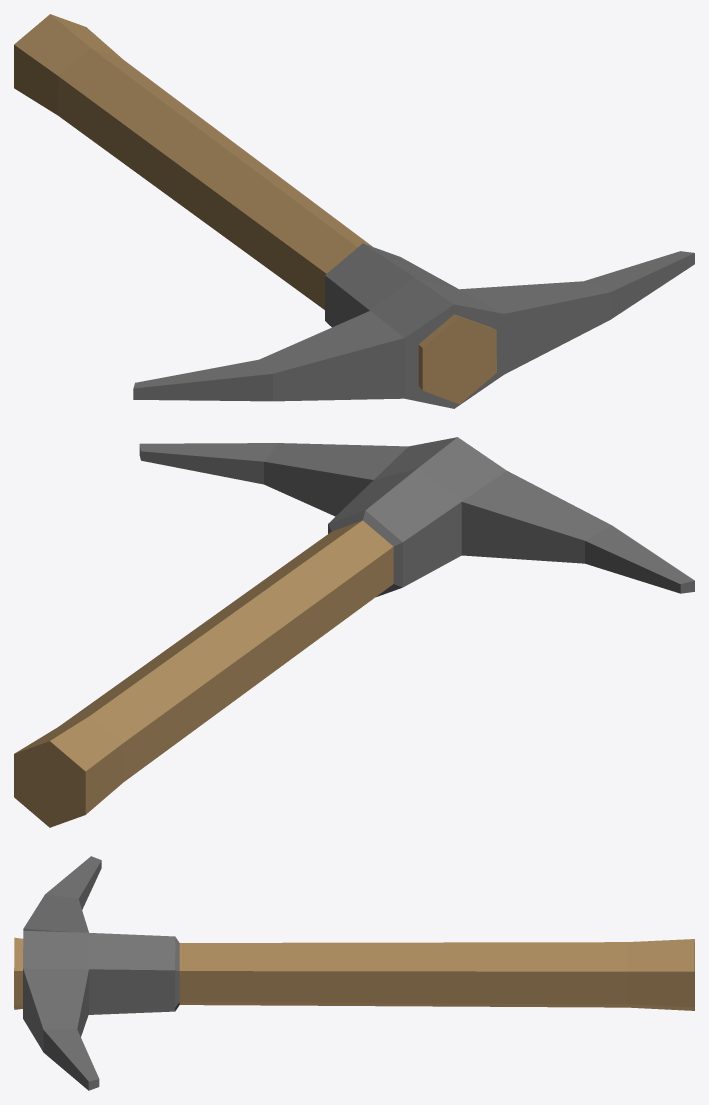
Rendered from pick.fbx.
3 renders of one model, top to bottom at view 1: azimuth 30°, elevation 25°; view 2: azimuth 150°, elevation 25°; view 3: azimuth 270°, elevation 25°, orthographic. The views are drawn at different scales.
Parts seen in each view (by area): view 1: PickAxe; view 2: PickAxe; view 3: PickAxe.
Part boxes in pixels (box(x1,y1,x2,y2)): PickAxe: box(14, 14, 694, 408); PickAxe: box(14, 437, 694, 827); PickAxe: box(14, 856, 694, 1090).
Size of the model in its own units: 45.5 by 8.11 by 58.09.
